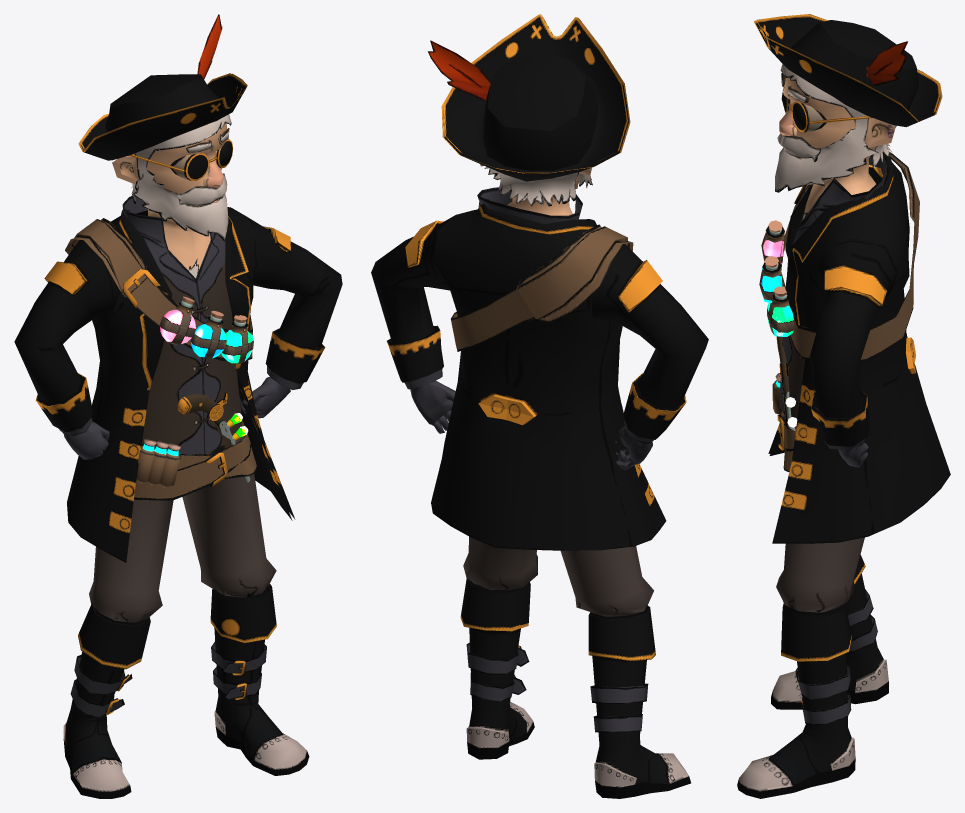
The model's file is captain-cleanbeard.glb.
3 views of the same model, side by side, from view 1: azimuth 30°, elevation 25°; view 2: azimuth 150°, elevation 25°; view 3: azimuth 270°, elevation 25° (orthographic). The views are drawn at different scales.
Parts seen in each view (by area): view 1: Pirate_Body.002, Pirate_Body.003, Pirate_Body, Pirate_Body.001; view 2: Pirate_Body.003, Pirate_Body.002, Pirate_Body, Pirate_Body.001; view 3: Pirate_Body.002, Pirate_Body.003, Pirate_Body, Pirate_Body.001.
Boxes of the visible parts, box(x1,y1,x2,y2) form: Pirate_Body.002: box(14, 14, 342, 436); Pirate_Body.003: box(63, 196, 295, 562); Pirate_Body: box(63, 309, 309, 798); Pirate_Body.001: box(70, 269, 266, 718); Pirate_Body.003: box(410, 187, 666, 550); Pirate_Body.002: box(371, 14, 708, 444); Pirate_Body: box(460, 536, 690, 798); Pirate_Body.001: box(451, 288, 648, 732); Pirate_Body.002: box(754, 14, 942, 450); Pirate_Body.003: box(768, 146, 950, 543); Pirate_Body: box(737, 230, 888, 798); Pirate_Body.001: box(762, 185, 918, 725).
Bounding box in the file's own units: 1.35 × 2.84 × 0.7329.
4 materials, 4 textured.
